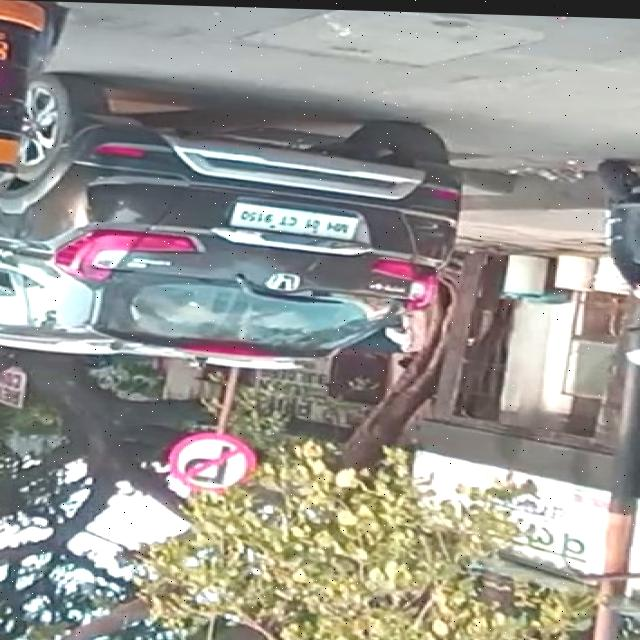plate: (228, 198, 363, 241)
